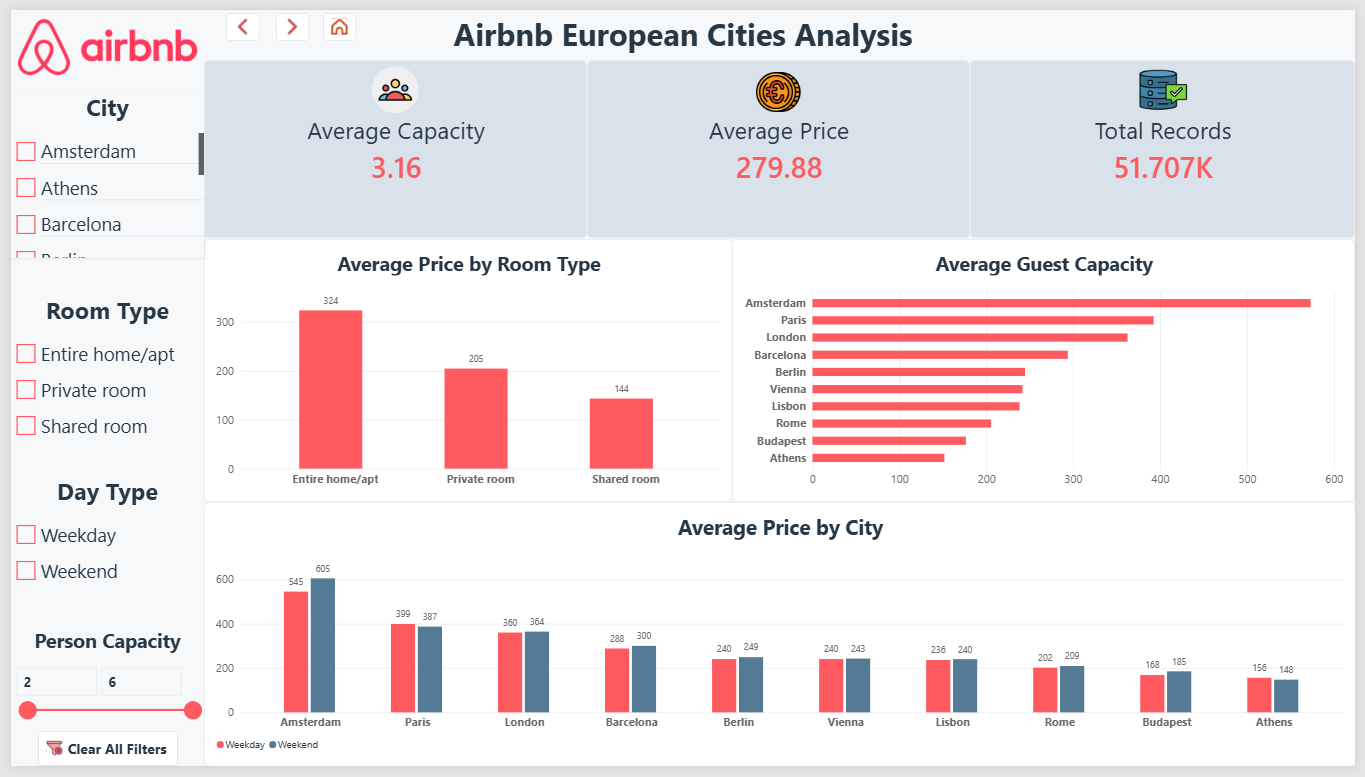

What the dashboard file says about the page in this screenshot:
{"tool":"powerbi","page":{"name":"Page 1","canvas":[1920,1080],"ordinal":0},"visuals":[{"type":"cardVisual","fields":{"Data":["Gold FactAirbnb.Total Records"]},"box":[1370,71.4,550,255.7],"z":0,"group":"g3"},{"type":"clusteredBarChart","title":"Average Guest Capacity","fields":{"Category":["Gold DimCity.City"],"Y":["Gold FactAirbnb.Average Price"]},"box":[1030,327.5,890,375],"z":0},{"type":"cardVisual","title":"Average Price (EUR / 2 nights)","fields":{"Data":["Gold FactAirbnb.Average Price"]},"box":[822.9,71.4,547.1,255.7],"z":1000,"group":"g2"},{"type":"clusteredColumnChart","title":"Average Price by Room Type","fields":{"Category":["Gold DimRoomType.RoomType"],"Y":["Gold FactAirbnb.Average Price"]},"box":[275,327.5,755,375],"z":1000},{"type":"clusteredColumnChart","title":"Average Price by City","fields":{"Category":["Gold DimCity.City"],"Series":["Gold DimDayType.DayType"],"Y":["Gold FactAirbnb.Average Price"]},"box":[275,702.5,1645,377.5],"z":2000},{"type":"cardVisual","title":"Average Guest Capacity","fields":{"Data":["Gold FactAirbnb.Average Capacity"]},"box":[275.7,71.4,547.1,255.7],"z":3000,"group":"g1"},{"type":"slicer","title":"City","fields":{"Values":["Gold DimCity.City"]},"box":[0,116,276,238],"z":3000},{"type":"slicer","title":"Room Type","fields":{"Values":["Gold DimRoomType.RoomType"]},"box":[0,406,276,232],"z":4000},{"type":"slicer","title":"Day Type","fields":{"Values":["Gold DimDayType.DayType"]},"box":[0,664,276,180],"z":5000},{"type":"textbox","title":"Airbnb European Cities Analysis","box":[0,4,1920,75.7],"z":6000},{"type":"slicer","title":"Person Capacity","fields":{"Values":["Gold FactAirbnb.PersonCapacity"]},"box":[0,881.4,275.7,148.6],"z":7000},{"type":"actionButton","box":[38.3,1030,200,50],"z":8000},{"type":"image","box":[10,0,256,106],"z":9000},{"type":"group","id":"g1","title":"Group 1","box":[275.7,71.4,547.1,255.7],"z":10000},{"type":"group","id":"g2","title":"Group 2","box":[822.9,71.4,547.1,255.7],"z":11000},{"type":"group","id":"g3","title":"Group 3","box":[1370,71.4,550,255.7],"z":12000},{"type":"image","box":[480,80,138,68],"z":12000,"group":"g1"},{"type":"actionButton","box":[378,4,47,40],"z":13000},{"type":"actionButton","box":[307,4,48,40],"z":14000},{"type":"image","box":[1027.5,80,138,68],"z":14000,"group":"g2"},{"type":"actionButton","box":[446,4,47,40],"z":15000},{"type":"image","box":[1577.5,80,138,68],"z":15000,"group":"g3"}]}

Visuals, with their boxes in screenshot pixels (x1, y1, x2, y2), scaled from the page's 1920x1080 canvas onto the 1365x777 screenshot:
cardVisual - Gold FactAirbnb.Total Records: x1=974, y1=51, x2=1364, y2=235
"Average Guest Capacity" clusteredBarChart: x1=732, y1=236, x2=1364, y2=505
"Average Price (EUR / 2 nights)" cardVisual: x1=585, y1=51, x2=974, y2=235
"Average Price by Room Type" clusteredColumnChart: x1=196, y1=236, x2=732, y2=505
"Average Price by City" clusteredColumnChart: x1=196, y1=505, x2=1364, y2=776
"Average Guest Capacity" cardVisual: x1=196, y1=51, x2=585, y2=235
"City" slicer: x1=0, y1=83, x2=196, y2=255
"Room Type" slicer: x1=0, y1=292, x2=196, y2=459
"Day Type" slicer: x1=0, y1=478, x2=196, y2=607
"Airbnb European Cities Analysis" textbox: x1=0, y1=3, x2=1364, y2=57
"Person Capacity" slicer: x1=0, y1=634, x2=196, y2=741
actionButton: x1=27, y1=741, x2=169, y2=776
image: x1=7, y1=0, x2=189, y2=76
"Group 1" group: x1=196, y1=51, x2=585, y2=235
"Group 2" group: x1=585, y1=51, x2=974, y2=235
"Group 3" group: x1=974, y1=51, x2=1364, y2=235
image: x1=341, y1=58, x2=439, y2=106
actionButton: x1=269, y1=3, x2=302, y2=32
actionButton: x1=218, y1=3, x2=252, y2=32
image: x1=730, y1=58, x2=829, y2=106
actionButton: x1=317, y1=3, x2=350, y2=32
image: x1=1122, y1=58, x2=1220, y2=106
